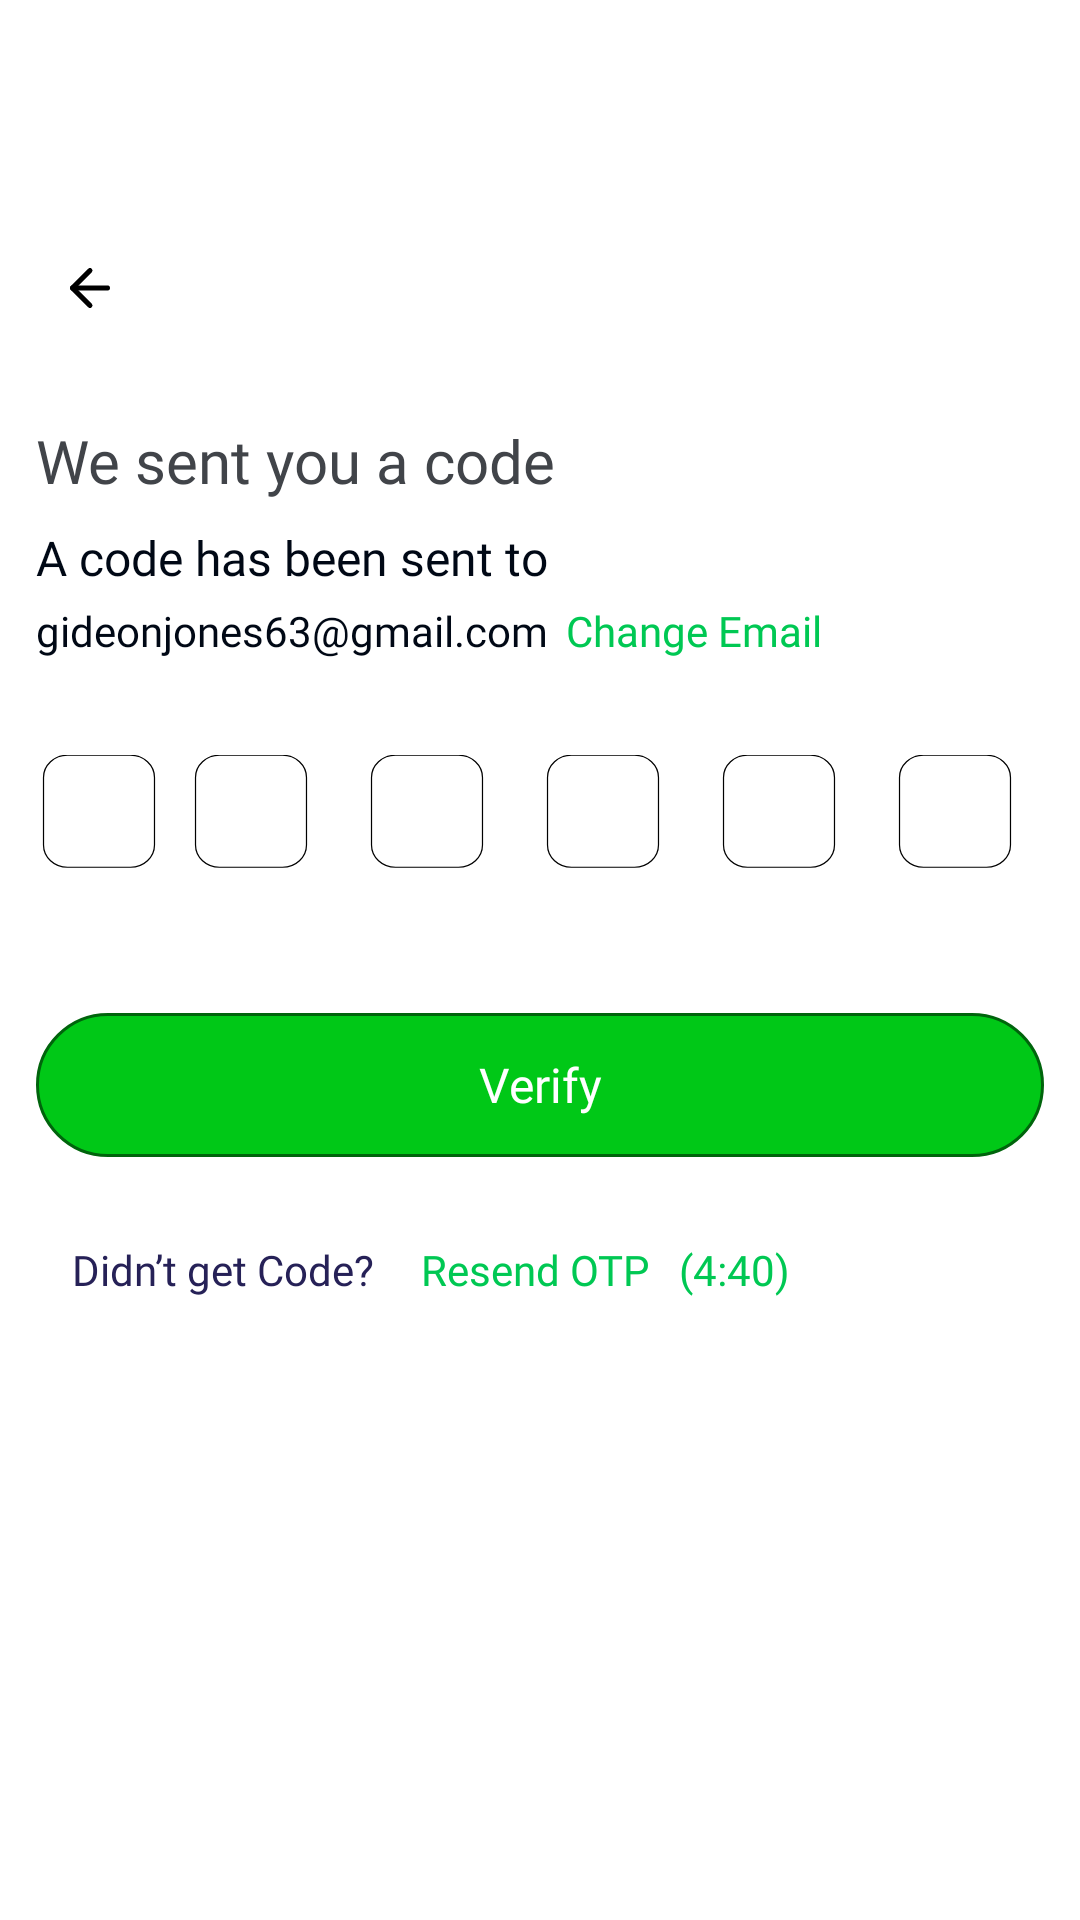

Where icons sit on this 1080×1920 app screen, as (x1, y1, x2, y2):
Back: (70, 268, 110, 308)
